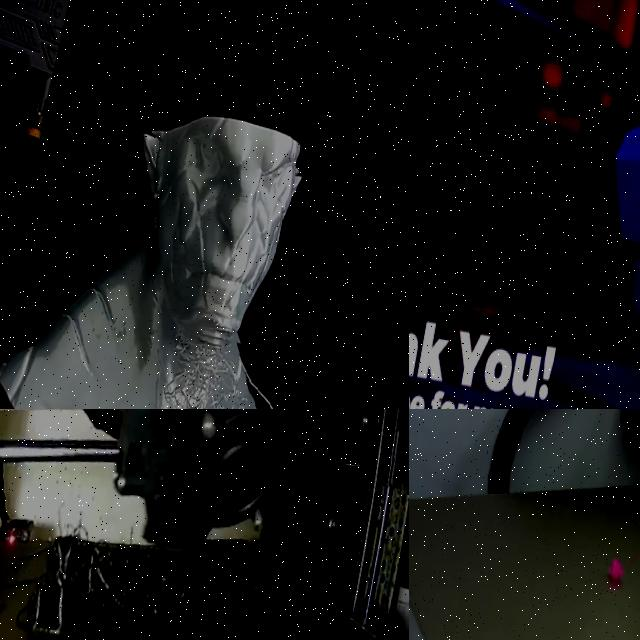spaghetti: (74, 311, 340, 409), (61, 508, 190, 624), (607, 559, 624, 583)
